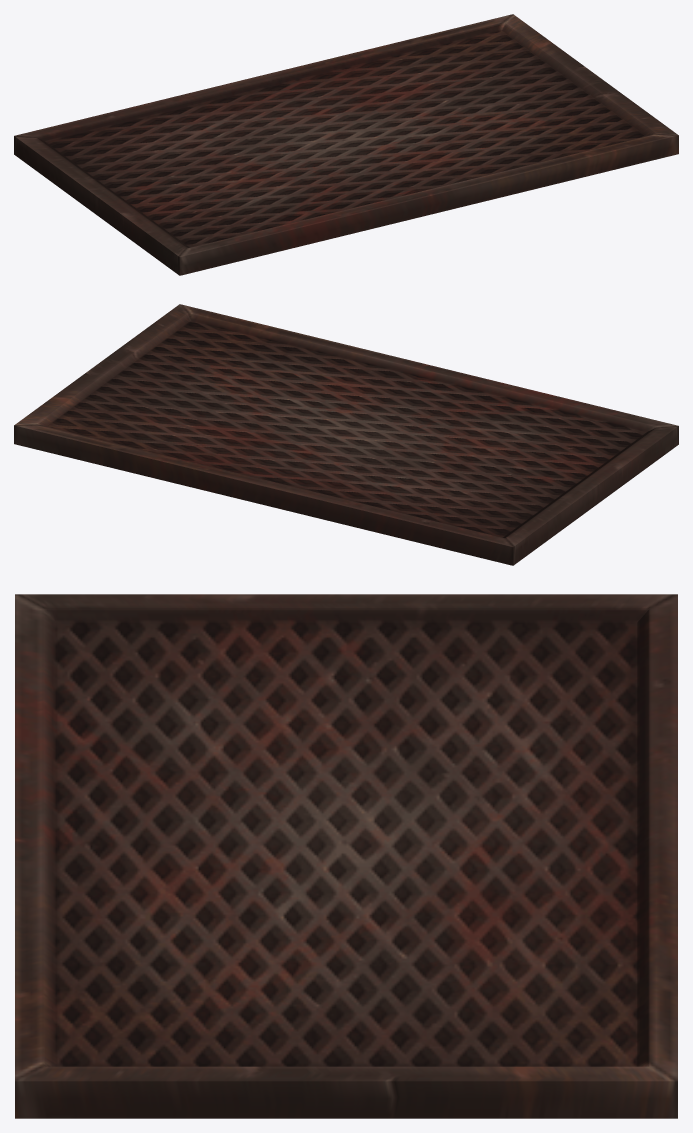
Rendered from sn_jixie_wangban_001.FBX.
The picture shows the model from 3 angles, top to bottom: view 1: azimuth 30°, elevation 25°; view 2: azimuth 150°, elevation 25°; view 3: azimuth 270°, elevation 25°; orthographic projection. The views are drawn at different scales.
Visible parts, largest first — view 1: sn_jixie_wangban_001; view 2: sn_jixie_wangban_001; view 3: sn_jixie_wangban_001.
Part boxes in pixels (<box>): sn_jixie_wangban_001: <box>14,14,678,275</box>; sn_jixie_wangban_001: <box>14,304,678,565</box>; sn_jixie_wangban_001: <box>15,594,677,1118</box>.
Size of the model in its own units: 15.8 by 9.09 by 0.5639.
